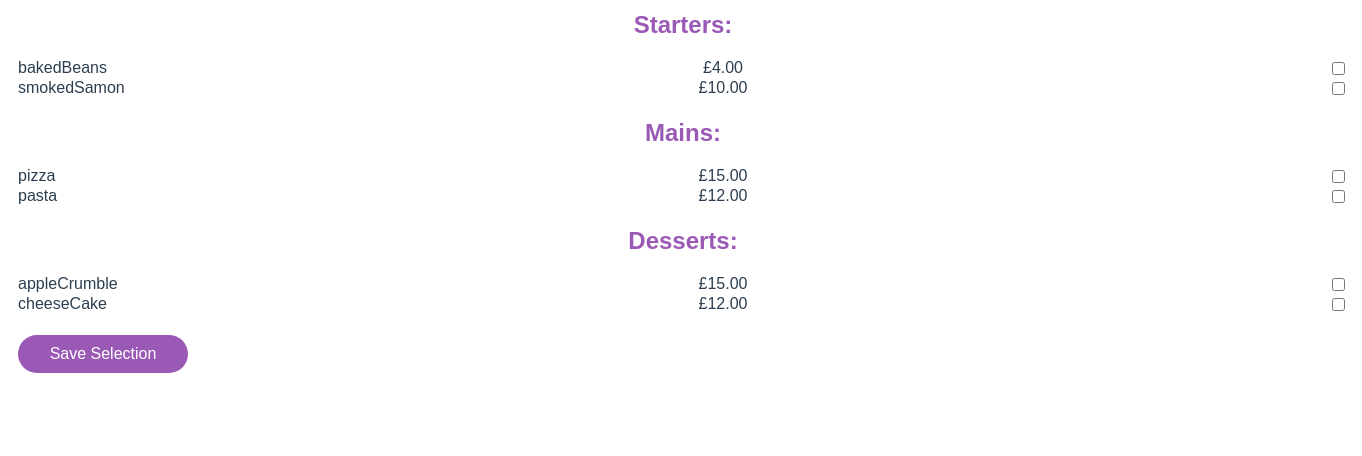
Test case: Menu › should render the OrderSummary when Save Selection button is clicked
This screenshot has width=1362, height=456.
Click the text with test id "button" at (103, 354), box x1=18 y1=335 x2=188 y2=373
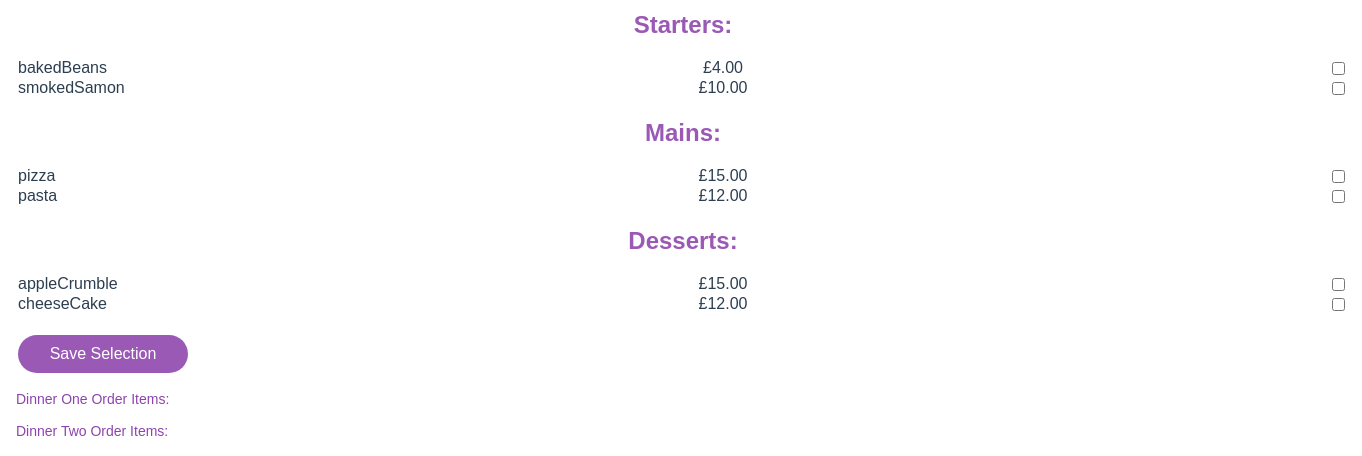
Now the element with test id "order-summary" is shown, box x1=16 y1=391 x2=169 y2=439
